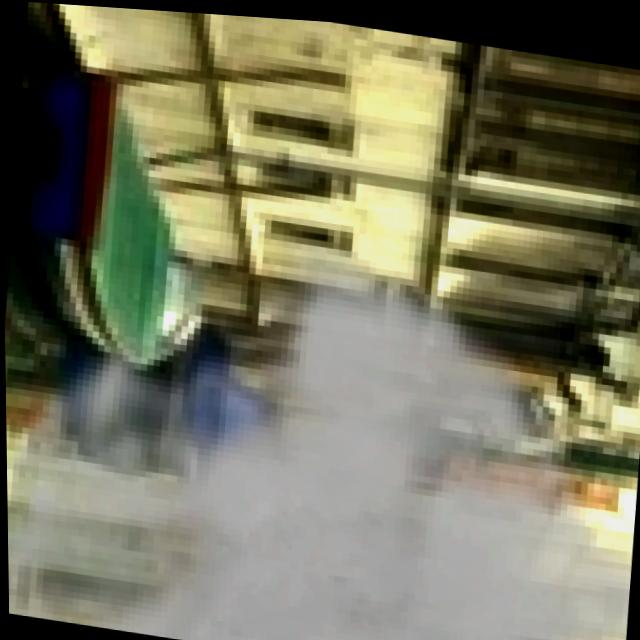smoke: (2, 191, 640, 640)
